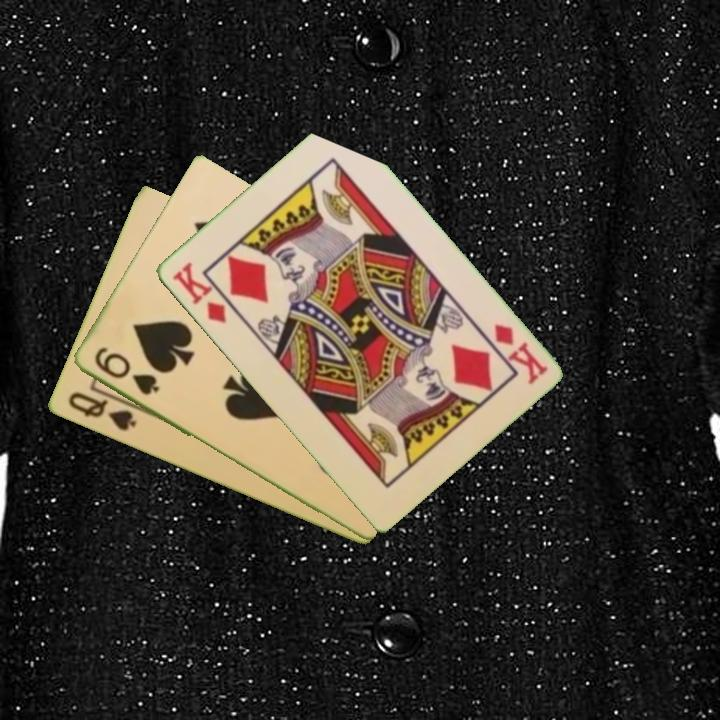6s: (90, 343, 162, 399)
Kd: (489, 319, 551, 387), (168, 258, 229, 327)
Qs: (64, 388, 139, 435)
